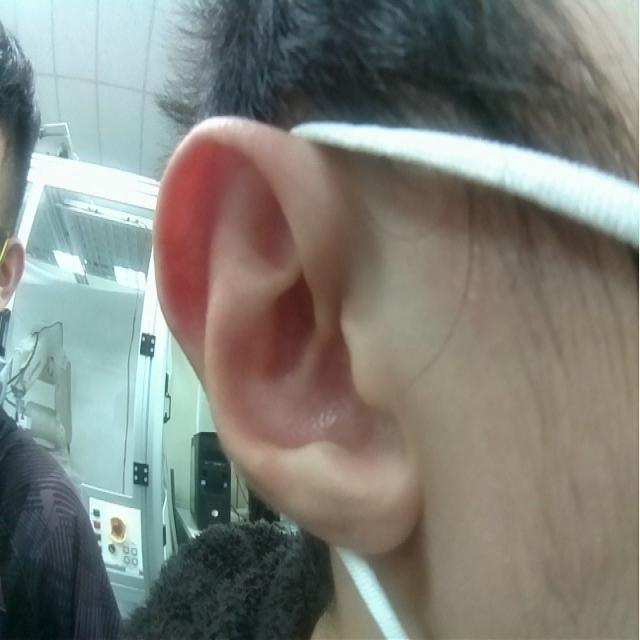no-earmuff: (152, 116, 421, 553)
